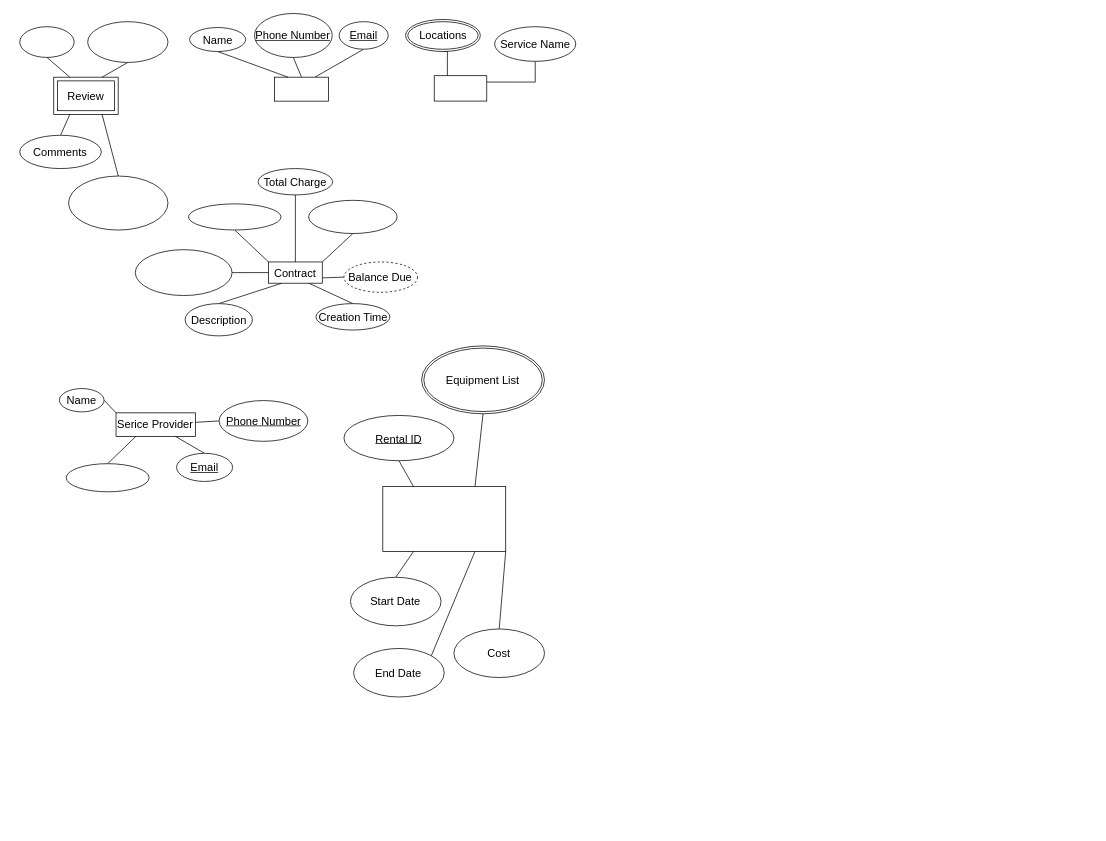
This 1106x841 diagram has some shape labels left out. Here are the shapes that lost their labels. From the top down, the centre of each, then its label:
At point (46, 41): "Rating".
At point (127, 41): "Reviewer ID".
At point (301, 88): "Client".
At point (460, 88): "Service".
At point (118, 202): "Service Provider ID".
At point (234, 216): "Prepaid Amount".
At point (352, 217): "Dates of Service".
At point (183, 272): "Confirmation Code".
At point (107, 477): "Average Rating".
At point (444, 518): "Equipment Rental".
